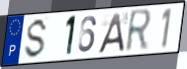1: (63, 14, 78, 58), (160, 7, 172, 50)
6: (78, 15, 98, 55)
A: (96, 12, 126, 55)
R: (124, 7, 154, 55)
S: (22, 17, 49, 61)
